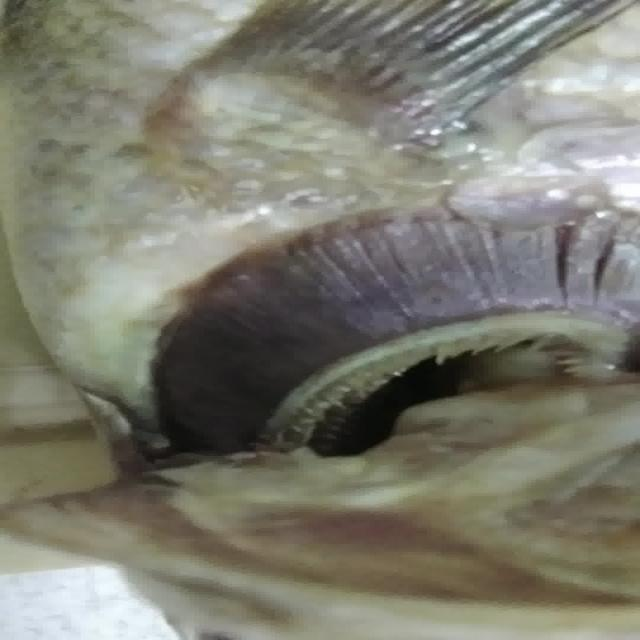Non-Fresh: (108, 158, 640, 452)
